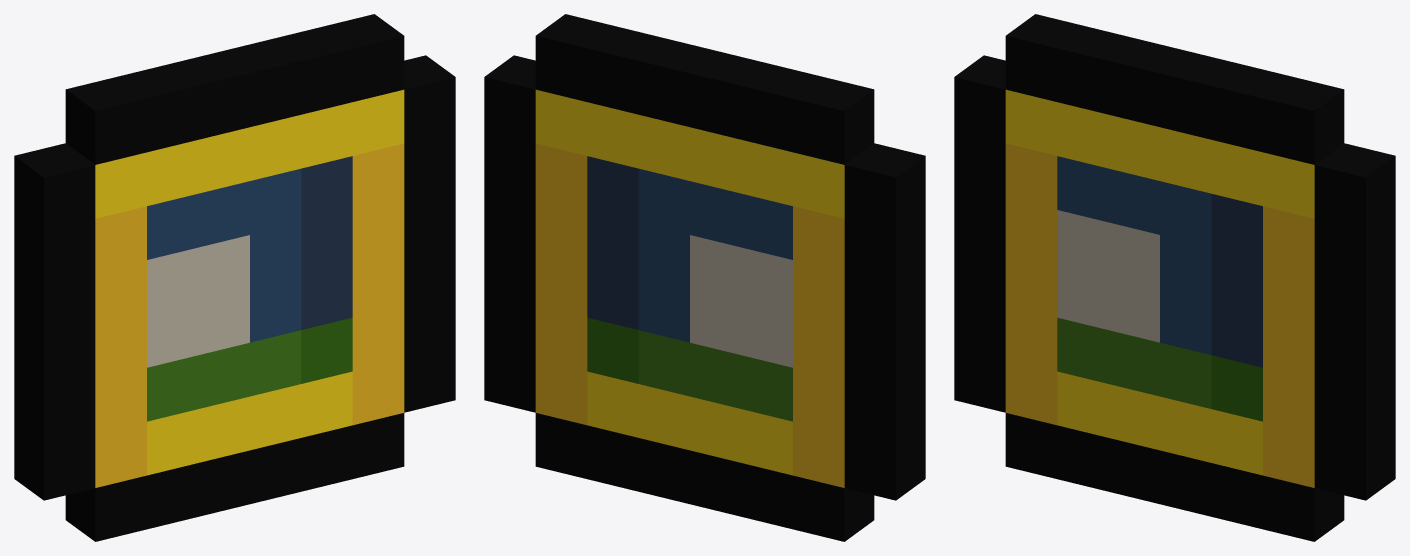
The model's file is clock_gold_early_night.glb.
The picture shows the model from 3 angles, left to right: view 1: azimuth 30°, elevation 25°; view 2: azimuth 150°, elevation 25°; view 3: azimuth 330°, elevation 25°; orthographic projection.
Parts seen in each view (by area): view 1: generated(Clone); view 2: generated(Clone); view 3: generated(Clone).
Part boxes in pixels (x1,y1,x2,y2): generated(Clone): (14,14,455,541); generated(Clone): (484,14,925,541); generated(Clone): (954,14,1395,541).
Bounding box in the file's own units: 8 × 8 × 1.
Materials: 1 (1 with a texture image).
